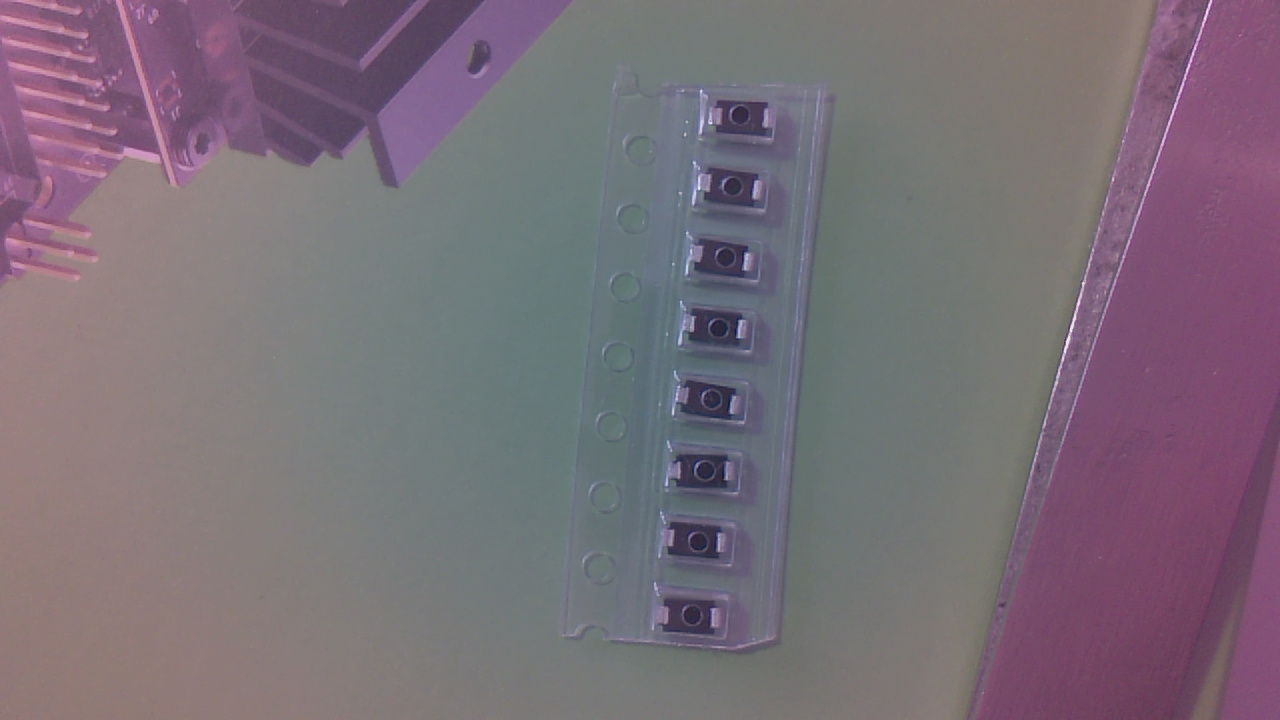Diode: (713, 102, 780, 144), (669, 525, 737, 566), (690, 314, 758, 352), (661, 601, 729, 639), (702, 174, 769, 212), (697, 245, 763, 282), (675, 457, 746, 491), (683, 386, 748, 423)
